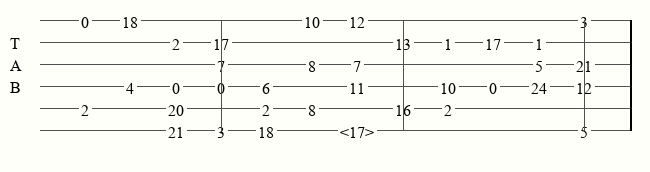0: (81, 13, 93, 28), (172, 79, 184, 94), (217, 79, 229, 94), (489, 79, 501, 94)
1: (444, 35, 456, 50), (535, 35, 547, 50)
10: (304, 13, 324, 28), (440, 79, 460, 94)
11: (349, 79, 369, 94)
12: (349, 13, 369, 28), (576, 79, 596, 94)
13: (395, 35, 415, 50)
16: (395, 101, 415, 116)
17: (213, 35, 233, 50), (485, 35, 505, 50)
18: (122, 13, 142, 28), (258, 123, 278, 138)
2: (81, 101, 93, 116), (172, 35, 184, 50), (262, 101, 274, 116), (444, 101, 456, 116)
20: (168, 101, 188, 116)
21: (168, 123, 188, 138), (576, 57, 596, 72)
24: (531, 79, 551, 94)
3: (217, 123, 229, 138), (580, 13, 592, 28)
4: (126, 79, 138, 94)
5: (535, 57, 547, 72), (580, 123, 592, 138)
6: (262, 79, 274, 94)
7: (217, 57, 229, 72), (353, 57, 365, 72)
8: (308, 57, 320, 72), (308, 101, 320, 116)
harmonic: (340, 123, 378, 138)
